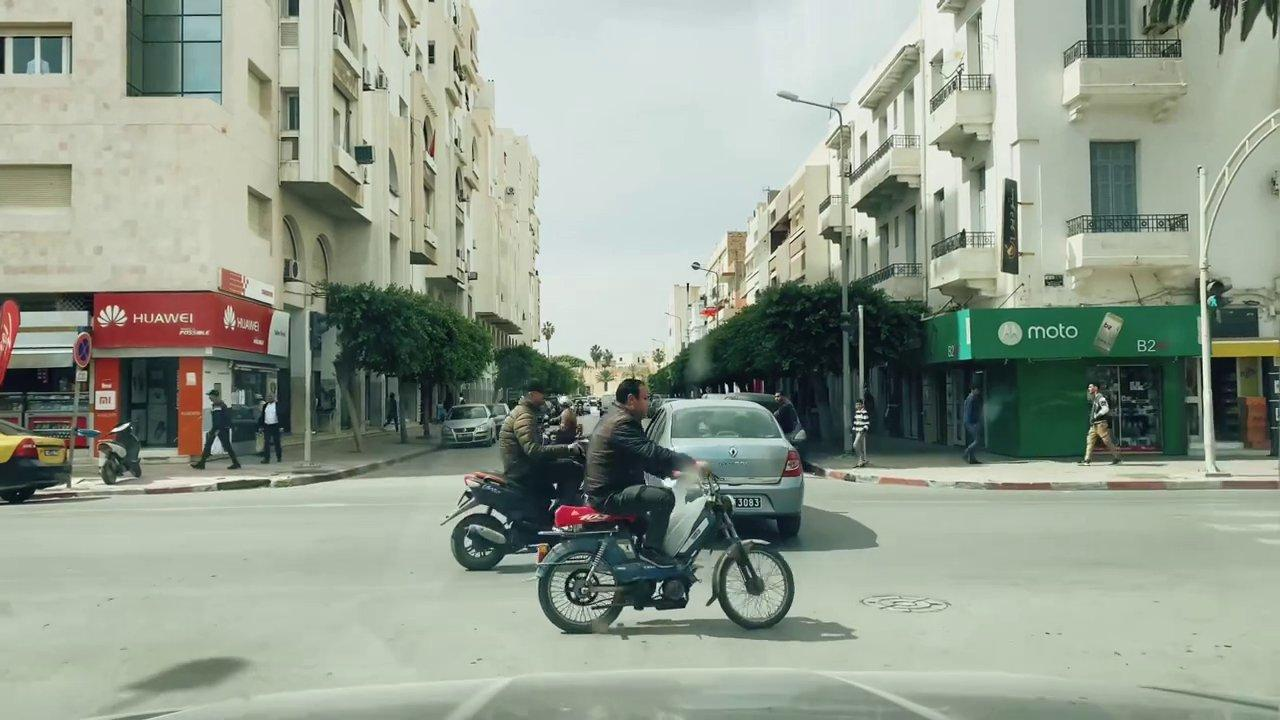no stopping: (70, 331, 97, 370)
